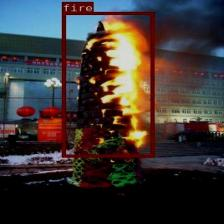fire: (62, 11, 153, 156)
